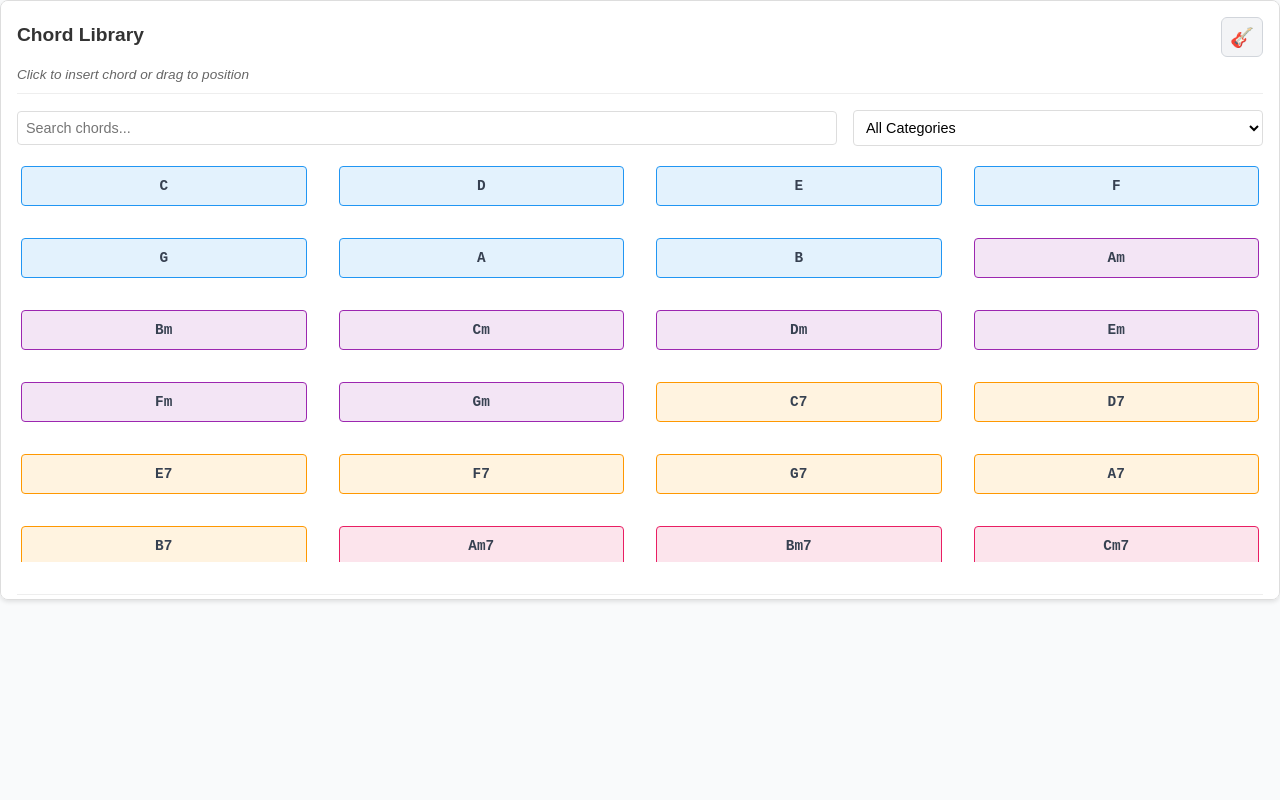
Scenario: ChordPalette › filters chords by search term
This screenshot has width=1280, height=800.
Step 1. Type "maj7" into the field with placeholder "Search chords..." → (427, 128), box [17,111,837,145]
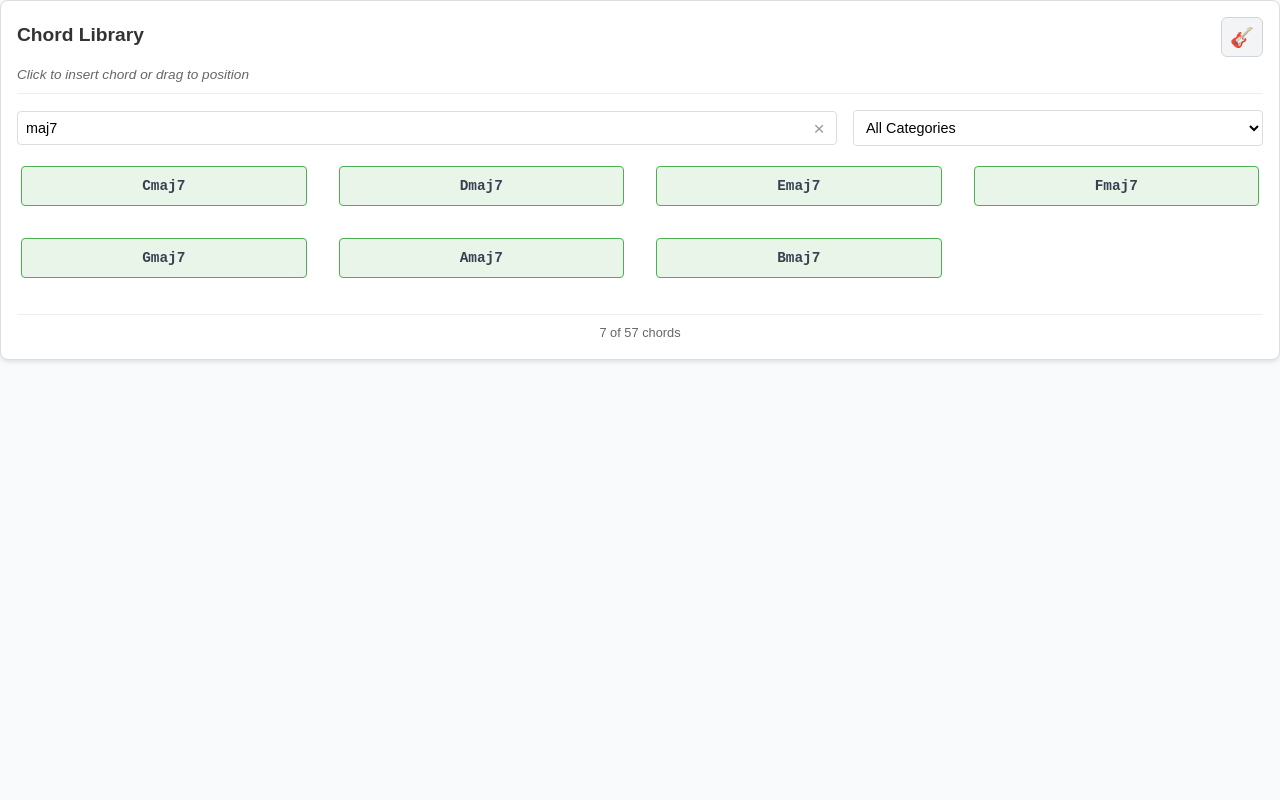
expect the button with aria-label "Insert Cmaj7 chord" is shown: met, box [21,166,306,206]
